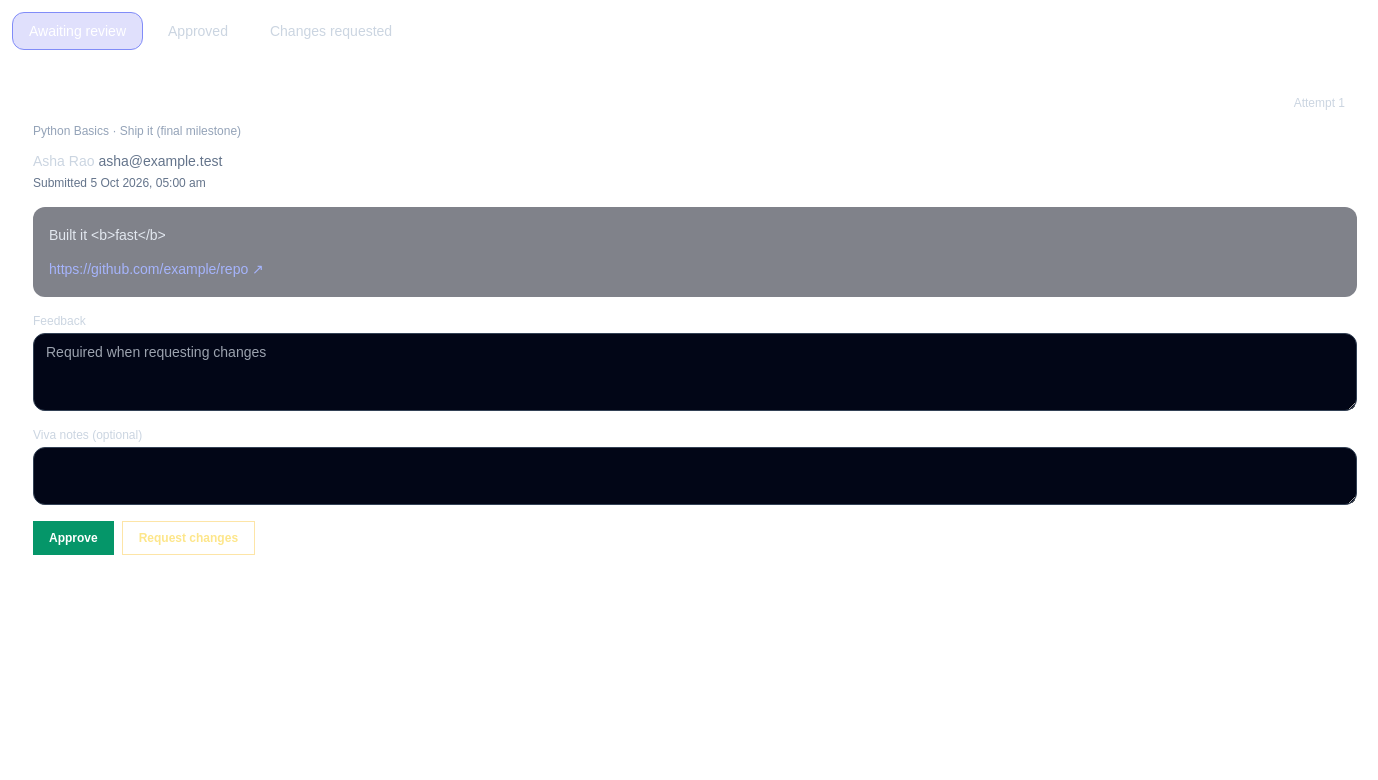
Test: ProjectReviewQueue › shows the server message when a review is refused
The image size is (1378, 780).
Click the button "approve ": click(73, 538) 33,521 -> 114,555
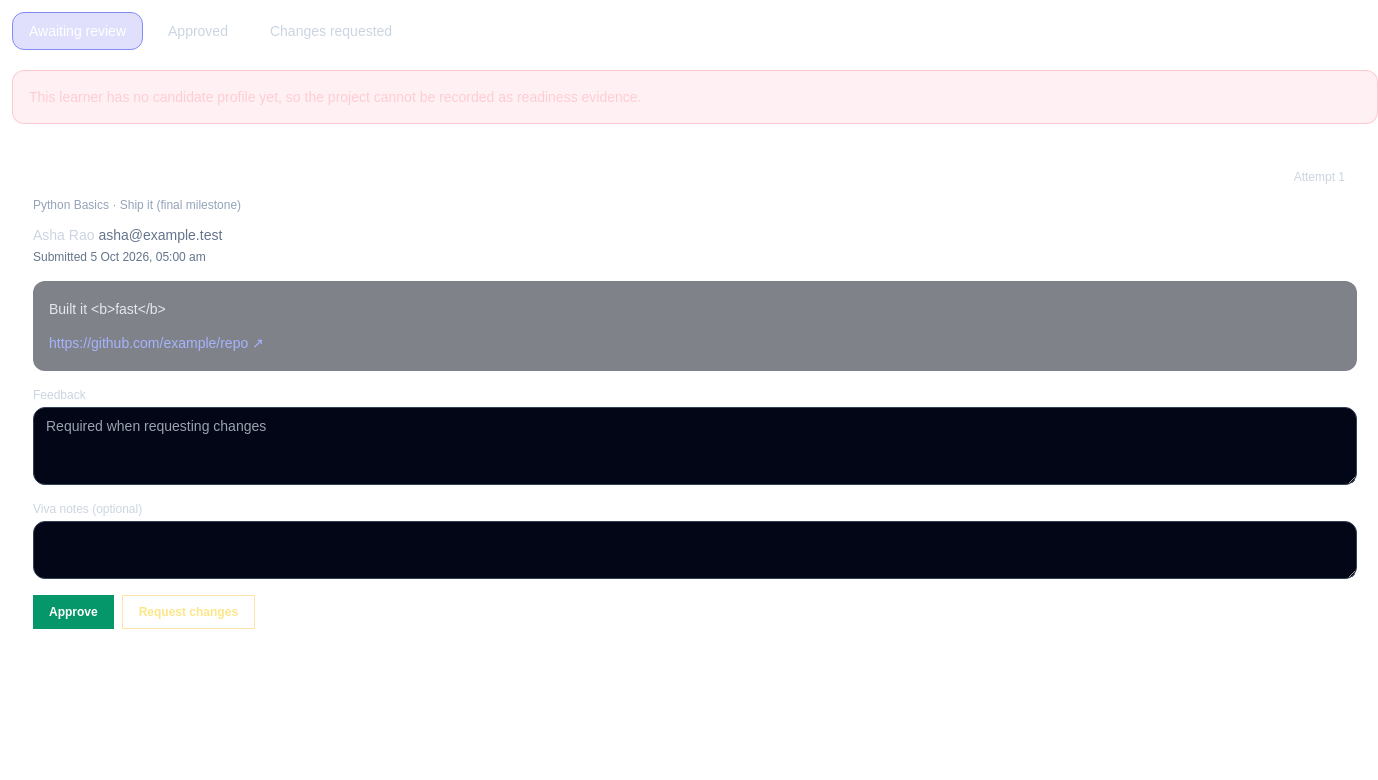
Expected: the message shows "no candidate profile", 29,89 -> 642,105
